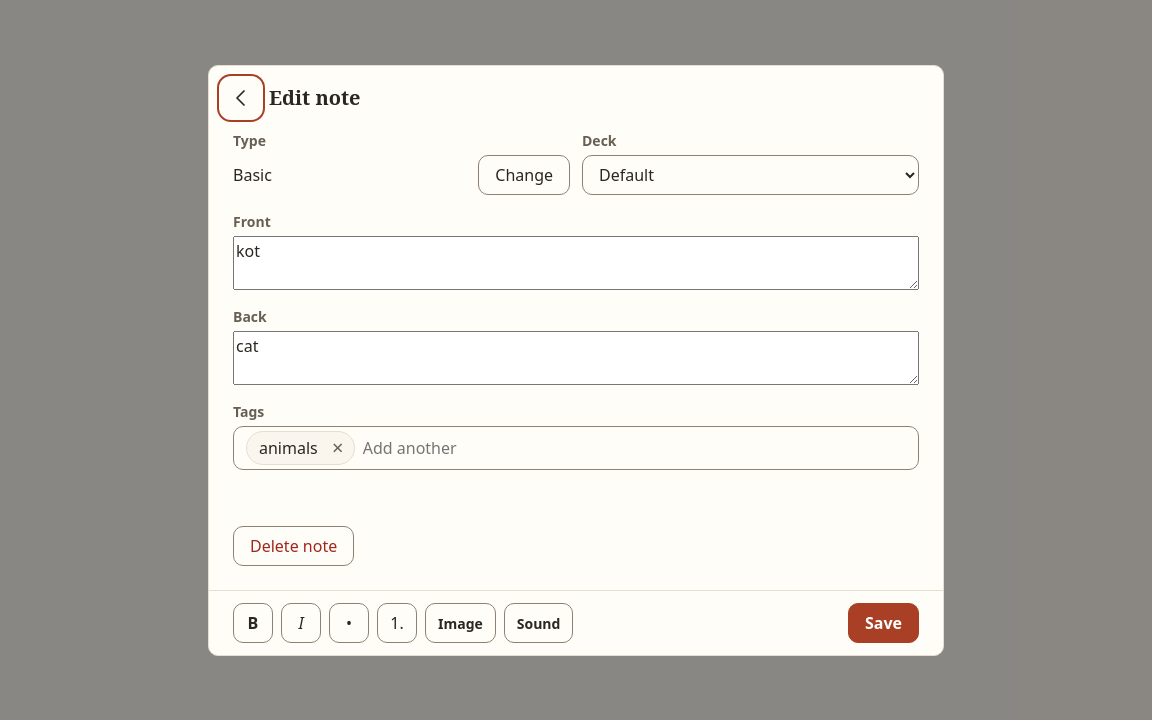
Test case: changing the note type › unsaved changes switch Change off, with the reason
Replace the text in the text box labelled "Front" with "pies" at coordinates (576, 262), box [233,236,919,290]
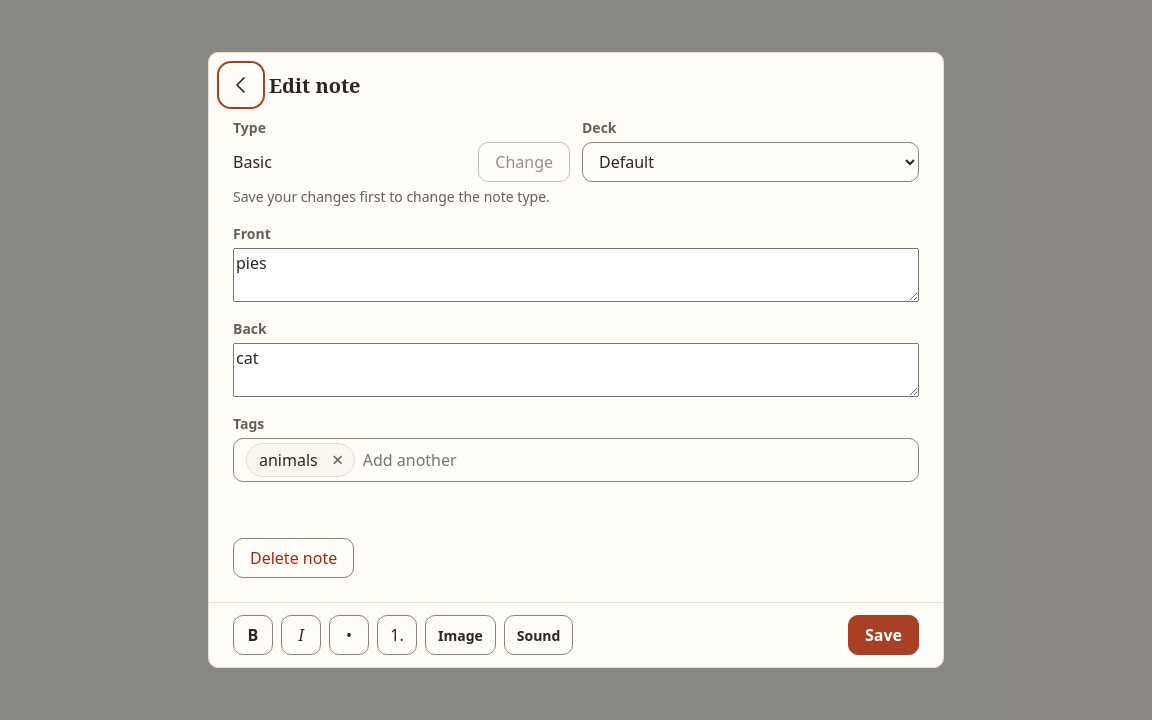
Check: the button "Change" is disabled, box [478,142,570,182]
Check: the text "Save your changes first to change the note type." is shown, box [233,186,570,207]
